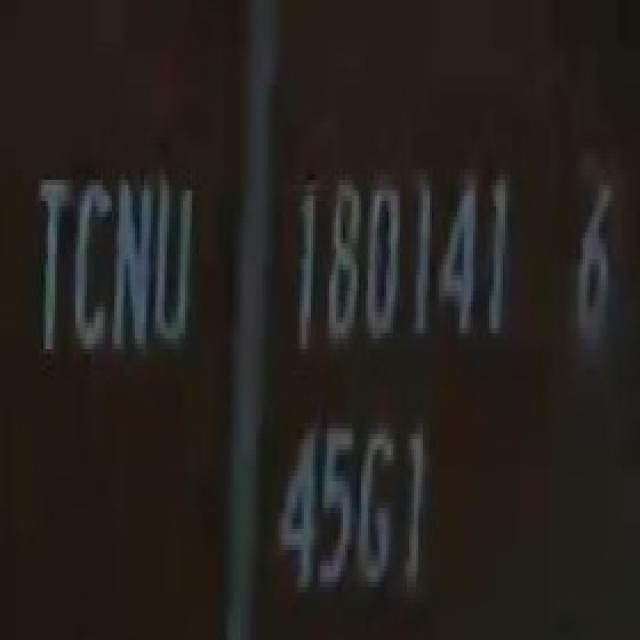dv: (565, 167, 616, 347)
owner: (29, 163, 200, 371)
serial: (284, 152, 515, 368)
size: (265, 412, 433, 601)
